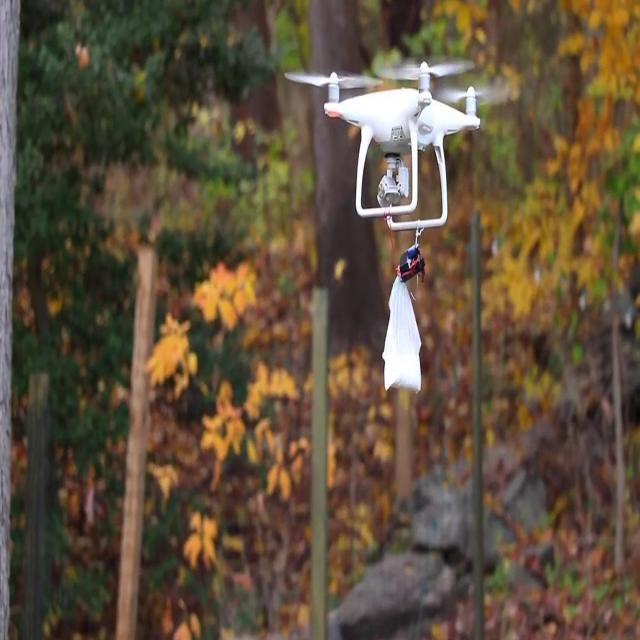UAV: (284, 61, 510, 231)
